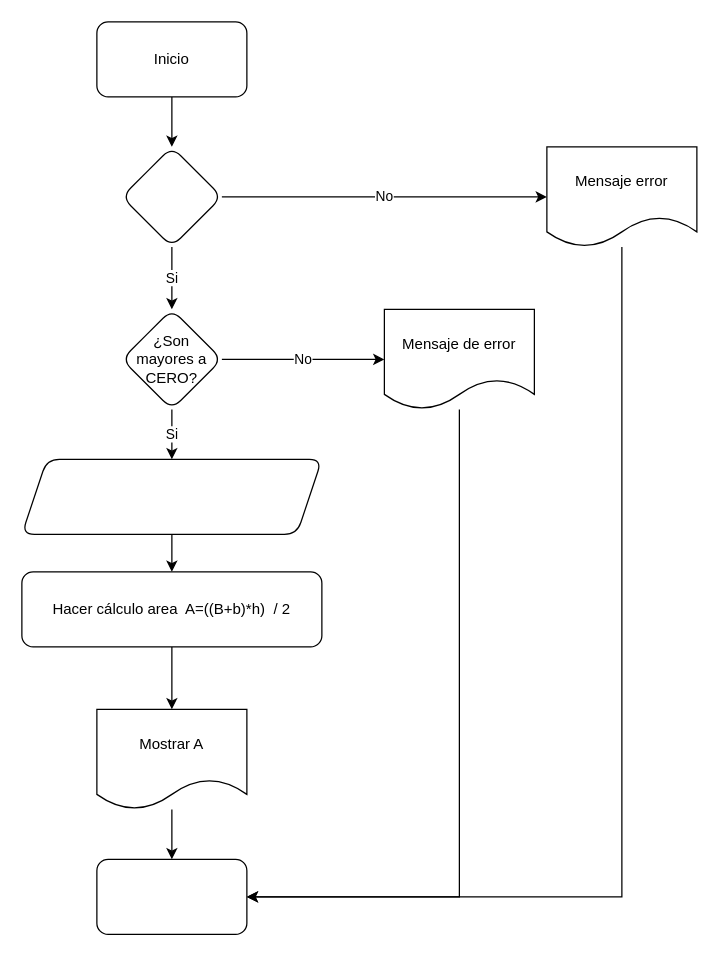
The diagram is 719 pixels wide and 956 high, and some of its shapes have lost their labels. The centre of each missing label's shape, as x and y in pixels:
"Fin" belongs at point 171,896.
"Leer B b h" belongs at point 171,496.
"¿Son Enteros?" belongs at point 171,196.
